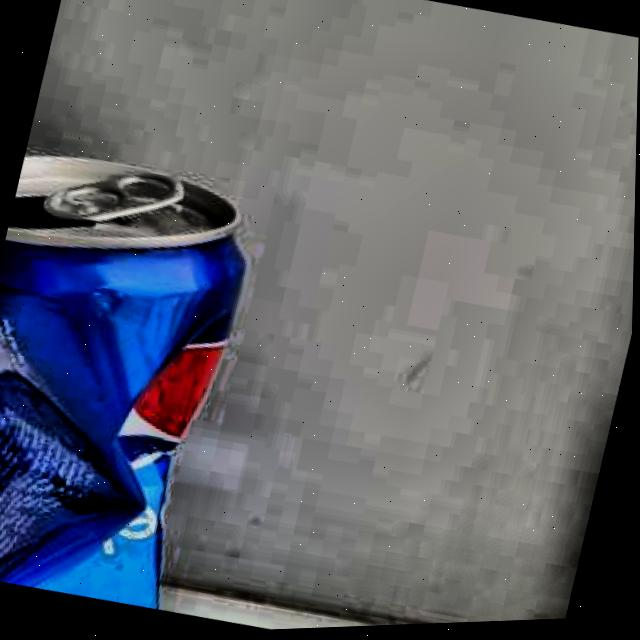metal: (0, 157, 250, 611)
